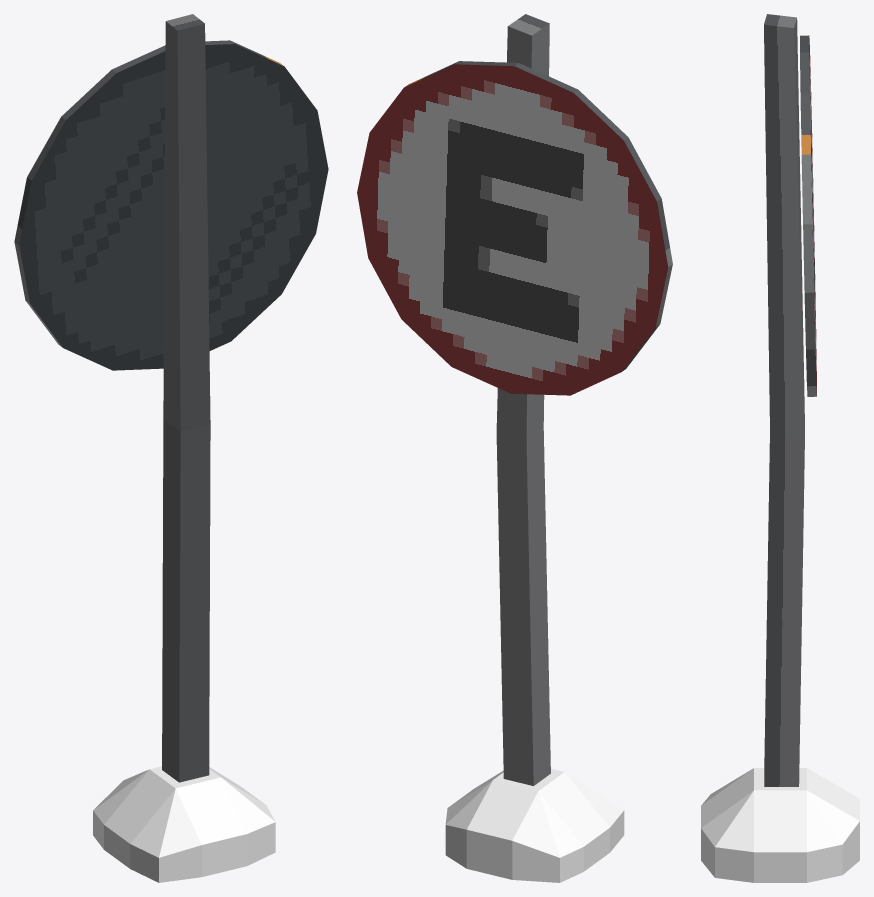
Rendered from sign1.glb.
3 views of the same model, side by side, from view 1: azimuth 30°, elevation 25°; view 2: azimuth 150°, elevation 25°; view 3: azimuth 270°, elevation 25° (orthographic).
Parts seen in each view (by area): view 1: Cube.001, Cube; view 2: Cube.001, Cube; view 3: Cube, Cube.001.
Boxes of the visible parts, x1=… form: Cube.001: x1=14, y1=40, x2=328, y2=370; Cube: x1=93, y1=14, x2=275, y2=882; Cube.001: x1=357, y1=61, x2=672, y2=395; Cube: x1=445, y1=14, x2=624, y2=882; Cube: x1=701, y1=14, x2=859, y2=882; Cube.001: x1=800, y1=35, x2=816, y2=396.
Bounding box in the file's own units: 62.58 × 158 × 27.49.
1 material, 1 textured.
